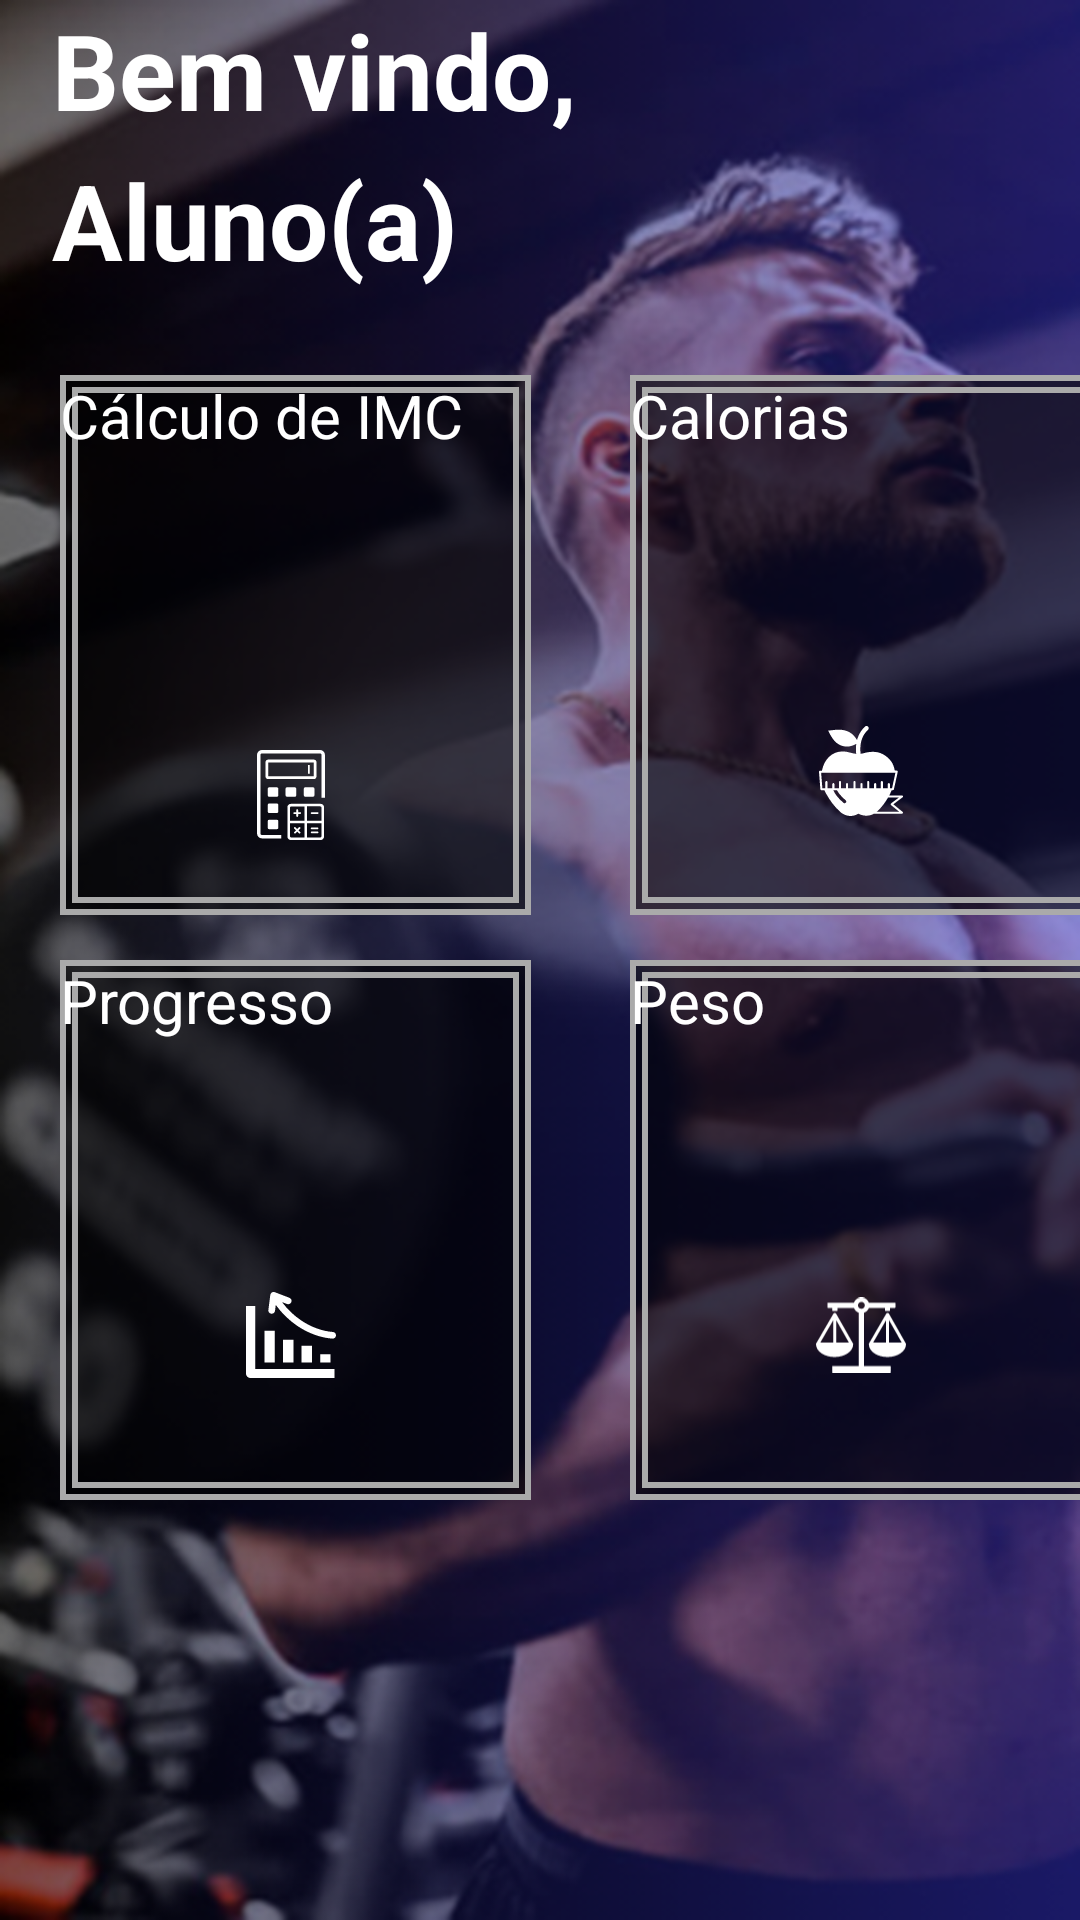

Where to tap for icons on this 1080*1920 app screen, as point (x, y):
calculating: point (291, 795)
diet food: point (861, 771)
scale: point (861, 1335)
